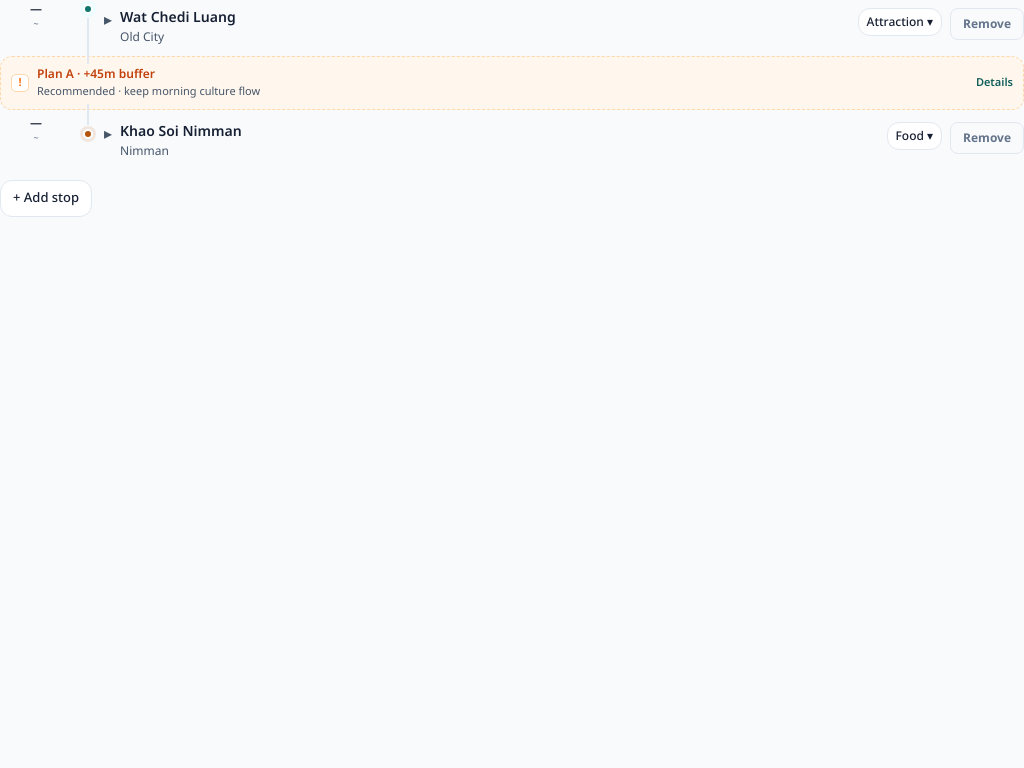
Test: DayTimeline inline AI suggestion chips under stops › places compact AI chips under related stops outside expand/collapse cards; chip opens Why/Accept dialog — no bottom accordion
This screenshot has width=1024, height=768.
Expected: the list item "— ~ ▸ Khao Soi Nimman Nimman Food ▾ Remove" is shown, [0,114,1023,168]
Expected: the dialog "Plan A · Culture morning" is not shown
Click the button with aria-label "Plan A · 45m buffer" at (96, 74), box [0,56,1023,110]
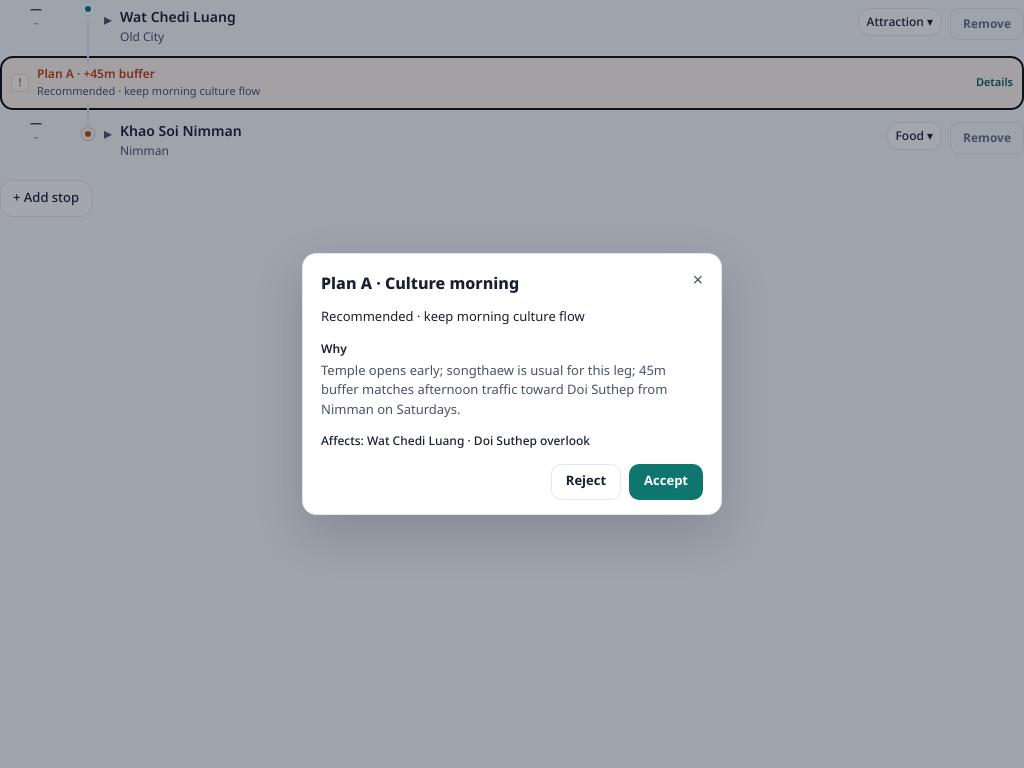
Expected: the text "Why" is shown, [321,340,347,358]
Expected: the text "Temple opens early; songthaew is usual for this leg; 45m buffer matches afternoon traffic toward Doi Suthep from Nimman " is shown, [321,360,667,420]
Expected: the text "Affects: Wat Chedi Luang · Doi Suthep overlook" is shown, [321,432,590,450]
